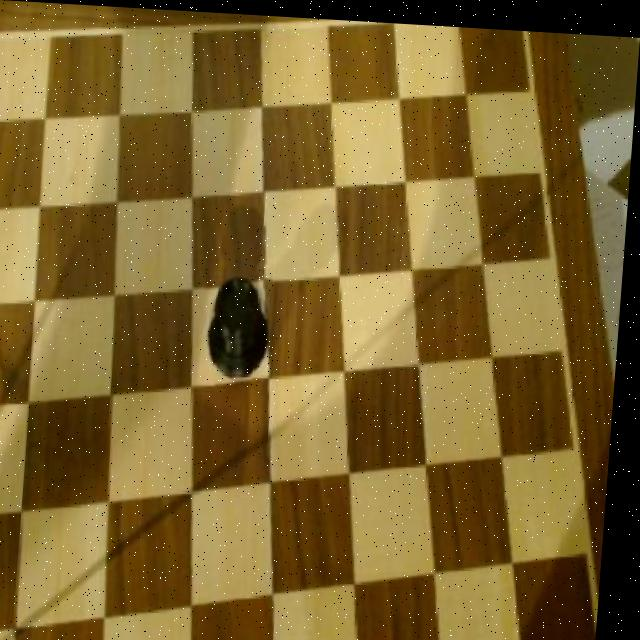black-queen: (204, 260, 281, 386)
